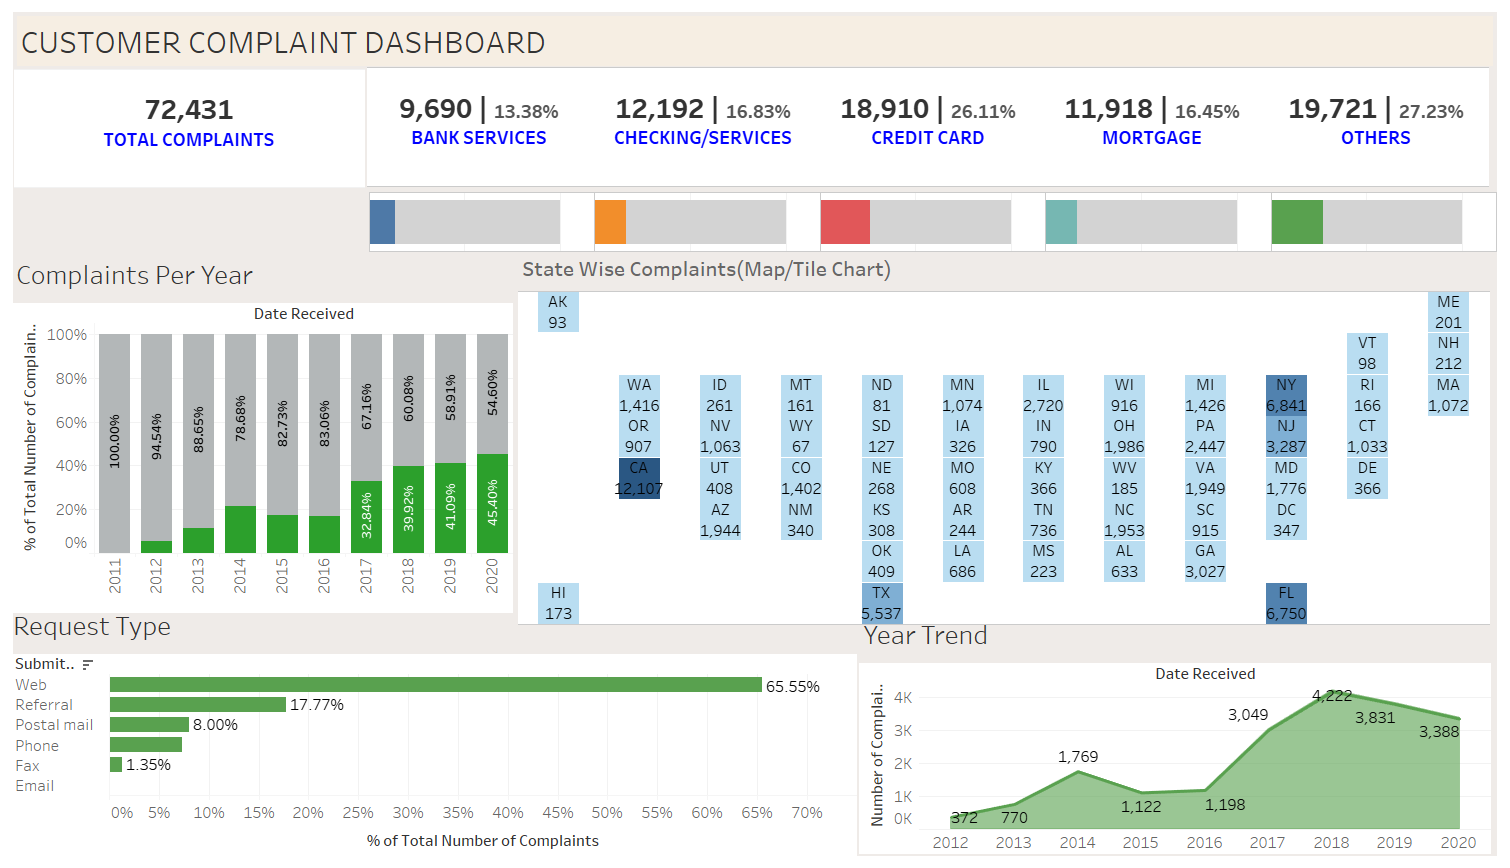

The page's visual inventory and layout, read from the dashboard file:
{"tool":"tableau","page":{"name":"CUSTOMER COMPLAINT DASHBOARD","canvas":[1000,1000],"units":"permille","ordinal":0},"visuals":[{"type":"title","box":[5.3,10.5,989.3,76.1]},{"type":"filter","title":"Complaints Per Year","param":"[federated.16cygrl11g4wxm1as2g840zudlh4].[Product Group]","box":[238.7,29.9,750.7,4.7]},{"type":"filter","title":"Map All","param":"[federated.16cygrl11g4wxm1as2g840zudlh4].[none:Calculation_3247939811348475906:n","box":[238.7,34.6,750.7,4.7]},{"type":"legend","title":"Map All","param":"[federated.16cygrl11g4wxm1as2g840zudlh4].[sum:Number of Complaints:qk]","box":[238.7,39.4,750.7,4.7]},{"type":"filter","title":"Map Bank Services","param":"[federated.16cygrl11g4wxm1as2g840zudlh4].[none:Calculation_3247939811348221953:n","box":[238.7,44.1,750.7,4.7]},{"type":"filter","title":"Map Bank Services","param":"[federated.16cygrl11g4wxm1as2g840zudlh4].[none:Calculation_349310496541732867:nk","box":[238.7,48.8,750.7,4.7]},{"type":"filter","title":"Map Bank Services","param":"[federated.16cygrl11g4wxm1as2g840zudlh4].[none:Calculation_3247939811348475906:n","box":[238.7,53.5,750.7,4.7]},{"type":"filter","title":"Map Checking","param":"[federated.16cygrl11g4wxm1as2g840zudlh4].[none:Calculation_3247939811348221953:n","box":[238.7,58.2,750.7,4.7]},{"type":"filter","title":"Map Checking","param":"[federated.16cygrl11g4wxm1as2g840zudlh4].[none:Calculation_349310496541732867:nk","box":[238.7,62.9,750.7,4.7]},{"type":"filter","title":"Map Checking","param":"[federated.16cygrl11g4wxm1as2g840zudlh4].[none:Calculation_3247939811348475906:n","box":[238.7,67.6,750.7,4.7]},{"type":"filter","title":"Map Credit ","param":"[federated.16cygrl11g4wxm1as2g840zudlh4].[none:Calculation_3247939811348221953:n","box":[238.7,72.3,750.7,4.7]},{"type":"worksheet","title":"KPI","mark":"Automatic","box":[241.3,73.6,748,139.7]},{"type":"worksheet","title":"Total KPI","mark":"Automatic","box":[6,76.1,234,138.4]},{"type":"filter","title":"Map Credit ","param":"[federated.16cygrl11g4wxm1as2g840zudlh4].[none:Calculation_349310496541732867:nk","box":[238.7,77,750.7,4.7]},{"type":"filter","title":"Map Credit ","param":"[federated.16cygrl11g4wxm1as2g840zudlh4].[none:Calculation_3247939811348475906:n","box":[238.7,81.7,750.7,4.7]},{"type":"filter","title":"Map Others","param":"[federated.16cygrl11g4wxm1as2g840zudlh4].[none:Calculation_3247939811348221953:n","box":[238.7,86.5,750.7,4.7]},{"type":"filter","title":"Map Others","param":"[federated.16cygrl11g4wxm1as2g840zudlh4].[none:Calculation_349310496541732867:nk","box":[238.7,91.2,750.7,4.7]},{"type":"filter","title":"Map Others","param":"[federated.16cygrl11g4wxm1as2g840zudlh4].[none:Calculation_3247939811348475906:n","box":[238.7,95.9,750.7,4.7]},{"type":"filter","title":"Tile All","param":"[federated.16cygrl11g4wxm1as2g840zudlh4].[none:Calculation_3247939811348221953:n","box":[238.7,100.6,750.7,4.7]},{"type":"filter","title":"Tile All","param":"[federated.16cygrl11g4wxm1as2g840zudlh4].[none:Calculation_3247939811348475906:n","box":[238.7,105.3,750.7,4.7]},{"type":"legend","title":"Tile All","param":"[federated.16cygrl11g4wxm1as2g840zudlh4].[none:One:ok]","box":[238.7,110,750.7,4.7]},{"type":"filter","title":"Tile Bank Services","param":"[federated.16cygrl11g4wxm1as2g840zudlh4].[none:Calculation_3247939811348221953:n","box":[238.7,114.7,750.7,4.7]},{"type":"filter","title":"Tile Bank Services","param":"[federated.16cygrl11g4wxm1as2g840zudlh4].[none:Calculation_3247939811348475906:n","box":[238.7,119.4,750.7,4.7]},{"type":"filter","title":"Tile Checking","param":"[federated.16cygrl11g4wxm1as2g840zudlh4].[none:Calculation_3247939811348221953:n","box":[238.7,124.1,750.7,4.7]},{"type":"filter","title":"Tile Checking","param":"[federated.16cygrl11g4wxm1as2g840zudlh4].[none:Calculation_3247939811348475906:n","box":[238.7,128.8,750.7,4.7]},{"type":"filter","title":"Tile Credit","param":"[federated.16cygrl11g4wxm1as2g840zudlh4].[none:Calculation_3247939811348221953:n","box":[238.7,133.6,750.7,4.7]},{"type":"filter","title":"Tile Credit","param":"[federated.16cygrl11g4wxm1as2g840zudlh4].[none:Calculation_3247939811348475906:n","box":[238.7,138.3,750.7,4.7]},{"type":"filter","title":"Tile Mortgage","param":"[federated.16cygrl11g4wxm1as2g840zudlh4].[none:Calculation_3247939811348221953:n","box":[238.7,143,750.7,4.7]},{"type":"filter","title":"Tile Mortgage","param":"[federated.16cygrl11g4wxm1as2g840zudlh4].[none:Calculation_3247939811348475906:n","box":[238.7,147.7,750.7,4.7]},{"type":"filter","title":"Tile Others","param":"[federated.16cygrl11g4wxm1as2g840zudlh4].[none:Calculation_3247939811348221953:n","box":[238.7,152.4,750.7,4.7]},{"type":"filter","title":"Tile Others","param":"[federated.16cygrl11g4wxm1as2g840zudlh4].[none:Calculation_3247939811348475906:n","box":[238.7,157.1,750.7,4.7]},{"type":"filter","title":"Map Mortgage","param":"[federated.16cygrl11g4wxm1as2g840zudlh4].[none:Calculation_3247939811348221953:n","box":[238.7,161.8,750.7,4.7]},{"type":"filter","title":"Map Mortgage","param":"[federated.16cygrl11g4wxm1as2g840zudlh4].[none:Calculation_349310496541732867:nk","box":[238.7,166.5,750.7,4.7]},{"type":"filter","title":"Map Mortgage","param":"[federated.16cygrl11g4wxm1as2g840zudlh4].[none:Calculation_3247939811348475906:n","box":[238.7,171.2,750.7,4.7]},{"type":"legend","title":"Request Type","param":"[federated.16cygrl11g4wxm1as2g840zudlh4].[Product Group]","box":[238.7,175.9,750.7,4.9]},{"type":"worksheet","title":"% of Complaints","mark":"Bar","cols":["Calculation_349310496532692993","Number of Complaints"],"box":[242.7,218.2,752,69.8]},{"type":"text","box":[342.7,285.5,648.7,42.4]},{"type":"worksheet","title":"Complaints Per Year","mark":"Bar","cols":["Date Received"],"box":[4.7,289.3,334,418.9]},{"type":"worksheet","title":"Map All","mark":"Multipolygon","box":[405.3,290,583.3,1.3]},{"type":"worksheet","title":"Map Bank Services","mark":"Multipolygon","box":[405.3,291.3,583.3,1.3]},{"type":"worksheet","title":"Map Checking","mark":"Multipolygon","box":[405.3,292.7,583.3,1.3]},{"type":"worksheet","title":"Map Credit ","mark":"Multipolygon","box":[405.3,294,583.3,1.3]},{"type":"worksheet","title":"Map Others","mark":"Multipolygon","box":[405.3,295.3,583.3,1.3]},{"type":"worksheet","title":"Map Mortgage","mark":"Multipolygon","box":[405.3,296.6,583.3,1.3]},{"type":"worksheet","title":"Tile Others","mark":"Square","rows":["Row"],"cols":["Space"],"box":[342,333.3,648,388.4]},{"type":"worksheet","title":"Request Type","mark":"Automatic","rows":["Submitted via"],"box":[2.7,698.2,565.3,295.3]},{"type":"worksheet","title":"Year Trend","mark":"Area","rows":["Number of Complaints","Number of Complaints"],"cols":["Date Received"],"box":[569.3,708.2,421.3,280.6]}]}

Visuals, with their boxes on the dashboard's canvas, which has no fixed pixel size, in thousandths of its width and height (x1, y1, x2, y2). These are canvas units, not pixel positions in the 1510x868 screenshot, which may show the page scaled, cropped or inside an application window:
title: l=5, t=10, r=995, b=87
"Complaints Per Year" filter: l=239, t=30, r=989, b=35
"Map All" filter: l=239, t=35, r=989, b=39
"Map All" legend: l=239, t=39, r=989, b=44
"Map Bank Services" filter: l=239, t=44, r=989, b=49
"Map Bank Services" filter: l=239, t=49, r=989, b=54
"Map Bank Services" filter: l=239, t=54, r=989, b=58
"Map Checking" filter: l=239, t=58, r=989, b=63
"Map Checking" filter: l=239, t=63, r=989, b=68
"Map Checking" filter: l=239, t=68, r=989, b=72
"Map Credit " filter: l=239, t=72, r=989, b=77
"KPI" worksheet: l=241, t=74, r=989, b=213
"Total KPI" worksheet: l=6, t=76, r=240, b=214
"Map Credit " filter: l=239, t=77, r=989, b=82
"Map Credit " filter: l=239, t=82, r=989, b=86
"Map Others" filter: l=239, t=86, r=989, b=91
"Map Others" filter: l=239, t=91, r=989, b=96
"Map Others" filter: l=239, t=96, r=989, b=101
"Tile All" filter: l=239, t=101, r=989, b=105
"Tile All" filter: l=239, t=105, r=989, b=110
"Tile All" legend: l=239, t=110, r=989, b=115
"Tile Bank Services" filter: l=239, t=115, r=989, b=119
"Tile Bank Services" filter: l=239, t=119, r=989, b=124
"Tile Checking" filter: l=239, t=124, r=989, b=129
"Tile Checking" filter: l=239, t=129, r=989, b=134
"Tile Credit" filter: l=239, t=134, r=989, b=138
"Tile Credit" filter: l=239, t=138, r=989, b=143
"Tile Mortgage" filter: l=239, t=143, r=989, b=148
"Tile Mortgage" filter: l=239, t=148, r=989, b=152
"Tile Others" filter: l=239, t=152, r=989, b=157
"Tile Others" filter: l=239, t=157, r=989, b=162
"Map Mortgage" filter: l=239, t=162, r=989, b=166
"Map Mortgage" filter: l=239, t=166, r=989, b=171
"Map Mortgage" filter: l=239, t=171, r=989, b=176
"Request Type" legend: l=239, t=176, r=989, b=181
"% of Complaints" worksheet (Bar marks): l=243, t=218, r=995, b=288
text: l=343, t=286, r=991, b=328
"Complaints Per Year" worksheet (Bar marks): l=5, t=289, r=339, b=708
"Map All" worksheet (Multipolygon marks): l=405, t=290, r=989, b=291
"Map Bank Services" worksheet (Multipolygon marks): l=405, t=291, r=989, b=293
"Map Checking" worksheet (Multipolygon marks): l=405, t=293, r=989, b=294
"Map Credit " worksheet (Multipolygon marks): l=405, t=294, r=989, b=295
"Map Others" worksheet (Multipolygon marks): l=405, t=295, r=989, b=297
"Map Mortgage" worksheet (Multipolygon marks): l=405, t=297, r=989, b=298
"Tile Others" worksheet (Square marks): l=342, t=333, r=990, b=722
"Request Type" worksheet: l=3, t=698, r=568, b=994
"Year Trend" worksheet (Area marks): l=569, t=708, r=991, b=989
